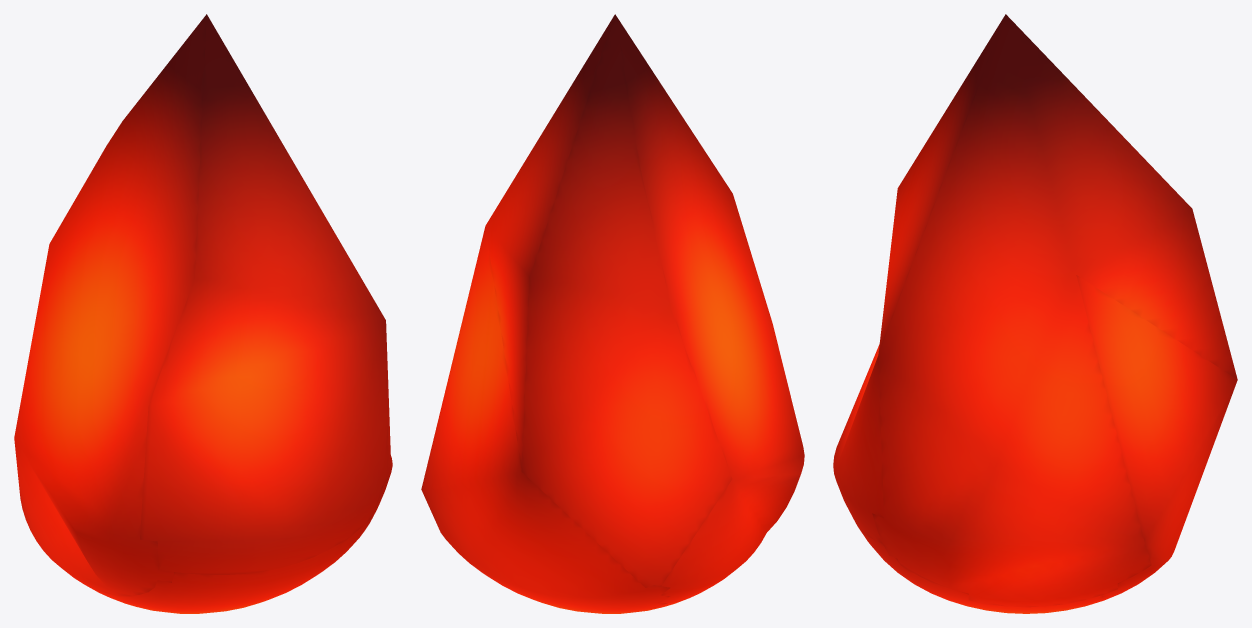
The model's file is fireFrame5.fbx.
3 renders of one model, left to right at view 1: azimuth 30°, elevation 25°; view 2: azimuth 150°, elevation 25°; view 3: azimuth 270°, elevation 25°, orthographic. The views are drawn at different scales.
Visible parts, largest first — view 1: fireFrame5_Baked; view 2: fireFrame5_Baked; view 3: fireFrame5_Baked.
Boxes of the visible parts, x1,y1,x2,y2 form: fireFrame5_Baked: (14, 14, 392, 613); fireFrame5_Baked: (421, 14, 804, 613); fireFrame5_Baked: (833, 14, 1237, 613).
Bounding box in the file's own units: 139 × 248 × 156.
